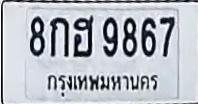6: (141, 18, 156, 57)
7: (159, 16, 175, 57)
8: (29, 15, 44, 55), (122, 17, 137, 56)
9: (102, 16, 117, 56)
A01: (49, 16, 68, 56)
A44: (72, 15, 93, 56)
BKK: (39, 68, 162, 100)
